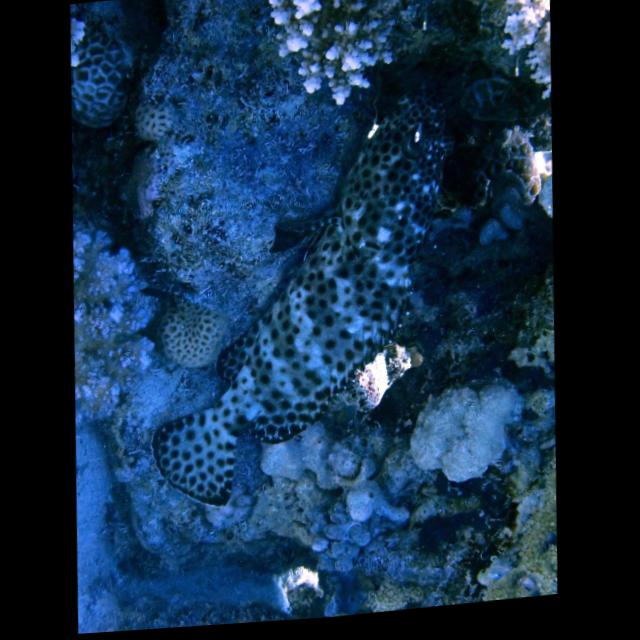Groupers: (139, 85, 465, 513)
